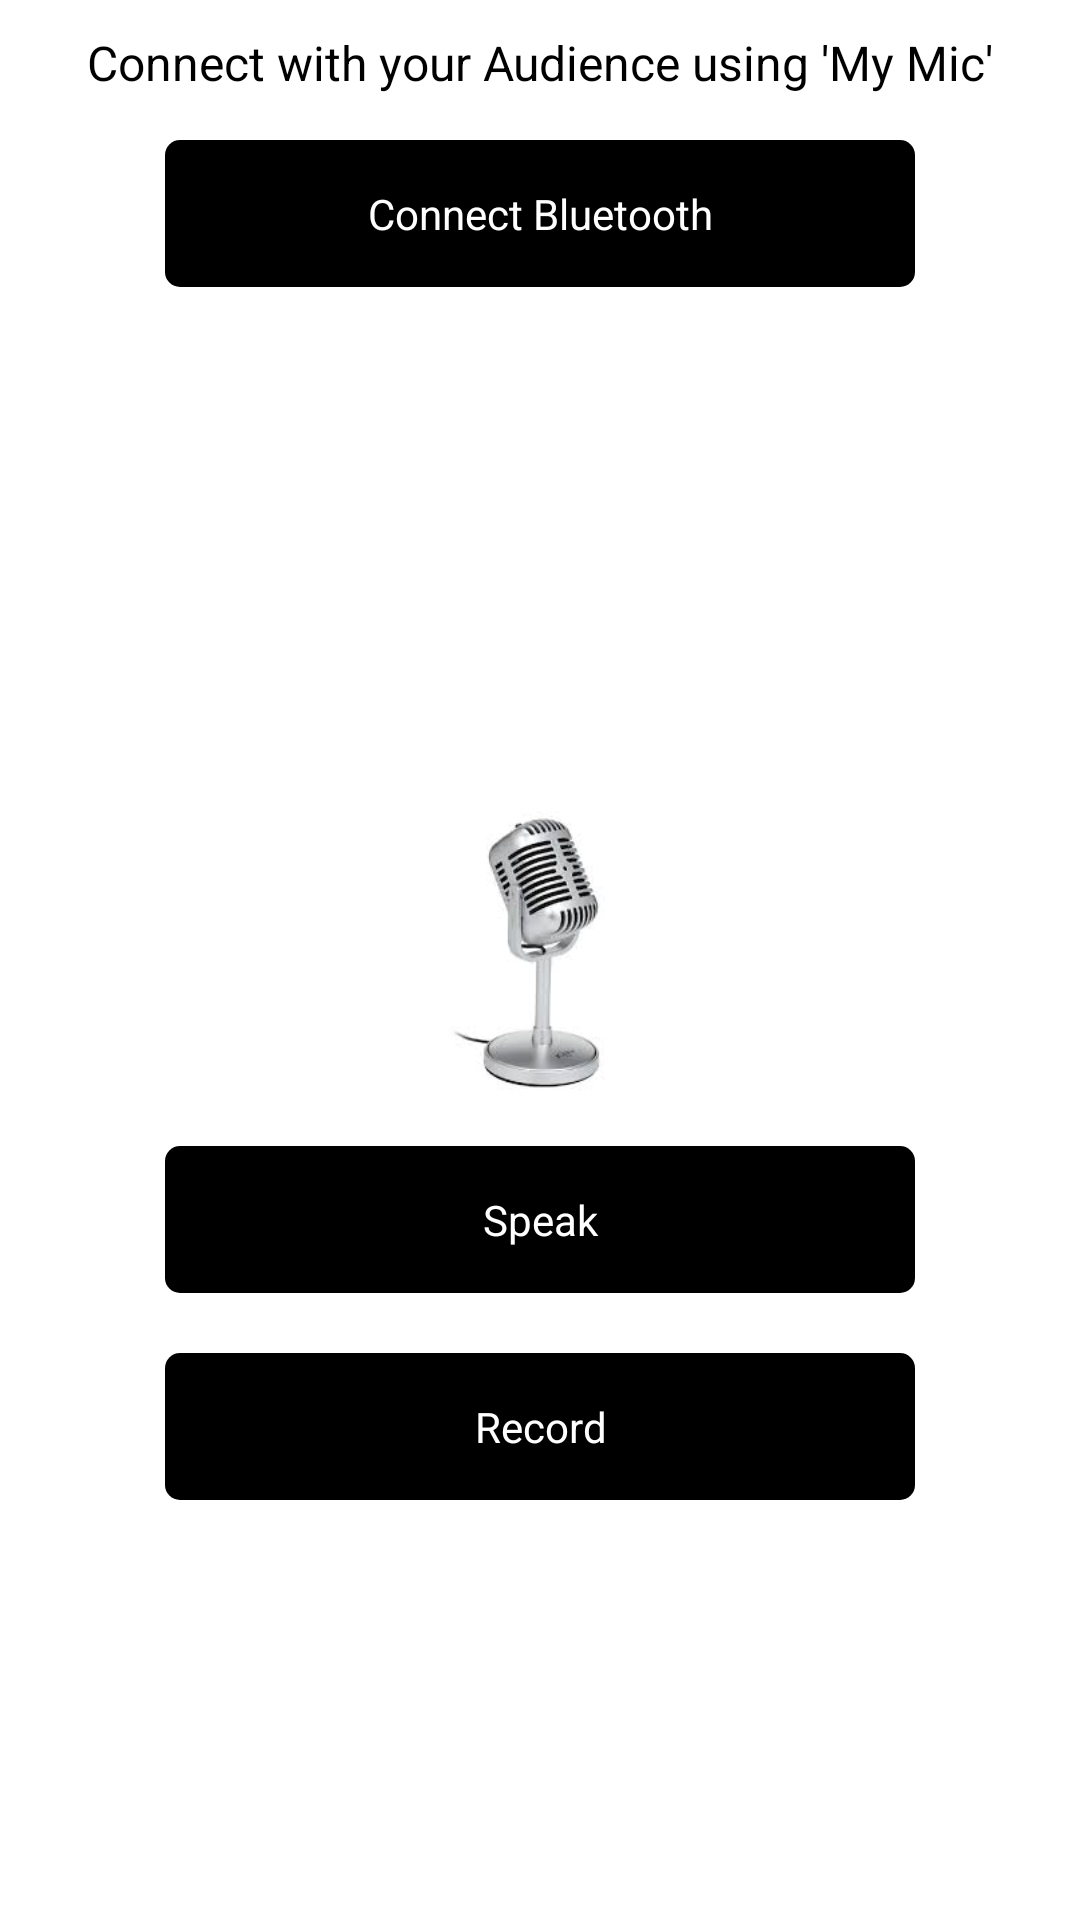

Where icons sit on this 1080px×1920px app screen, as (x1, y1, x2, y2):
images mic: (455, 818, 599, 1088)
